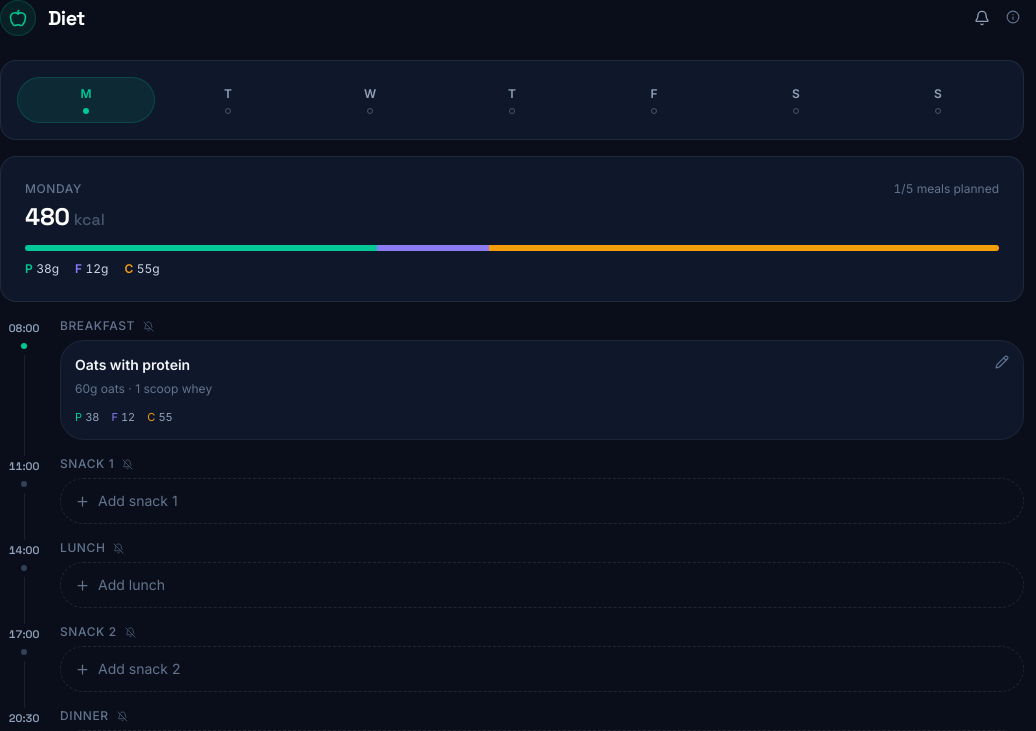
Test: Diet › shows the empty state again after switching to a day with no plan
The width and height of the screenshot is (1036, 731).
Expected: the text "Oats with protein" is shown, [75,356,190,373]
Click the tab named "Thursday" at (512, 100), box [443,77,581,123]
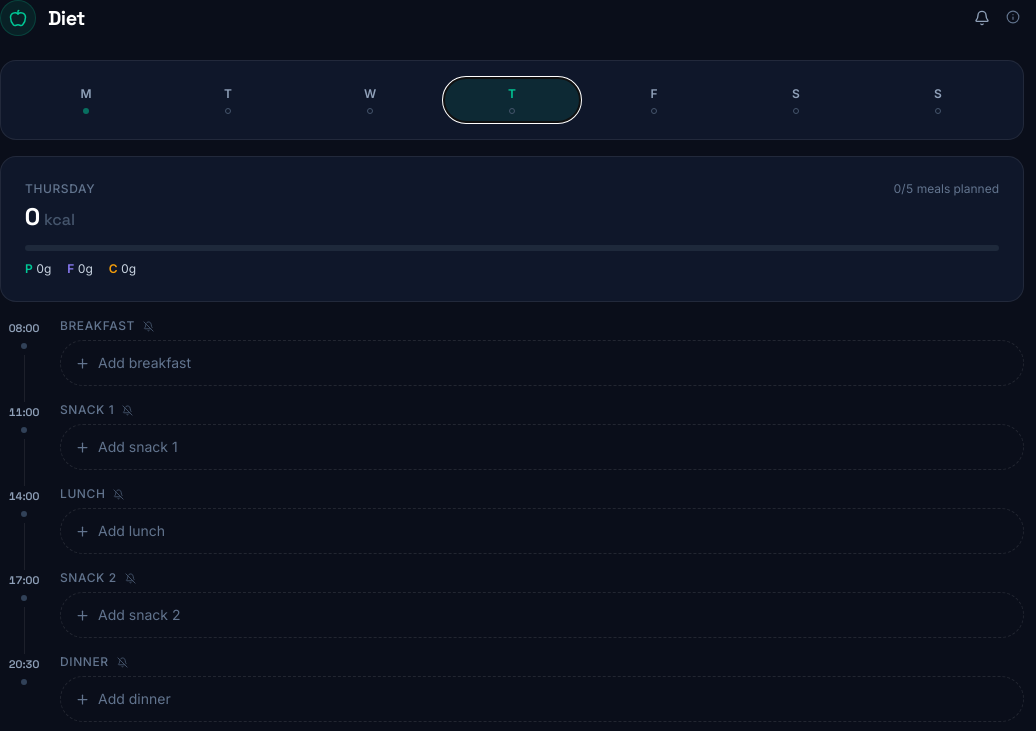
Now the text "Oats with protein" is gone
Now the text "0/5 meals planned" is shown, box [894,181,999,197]
